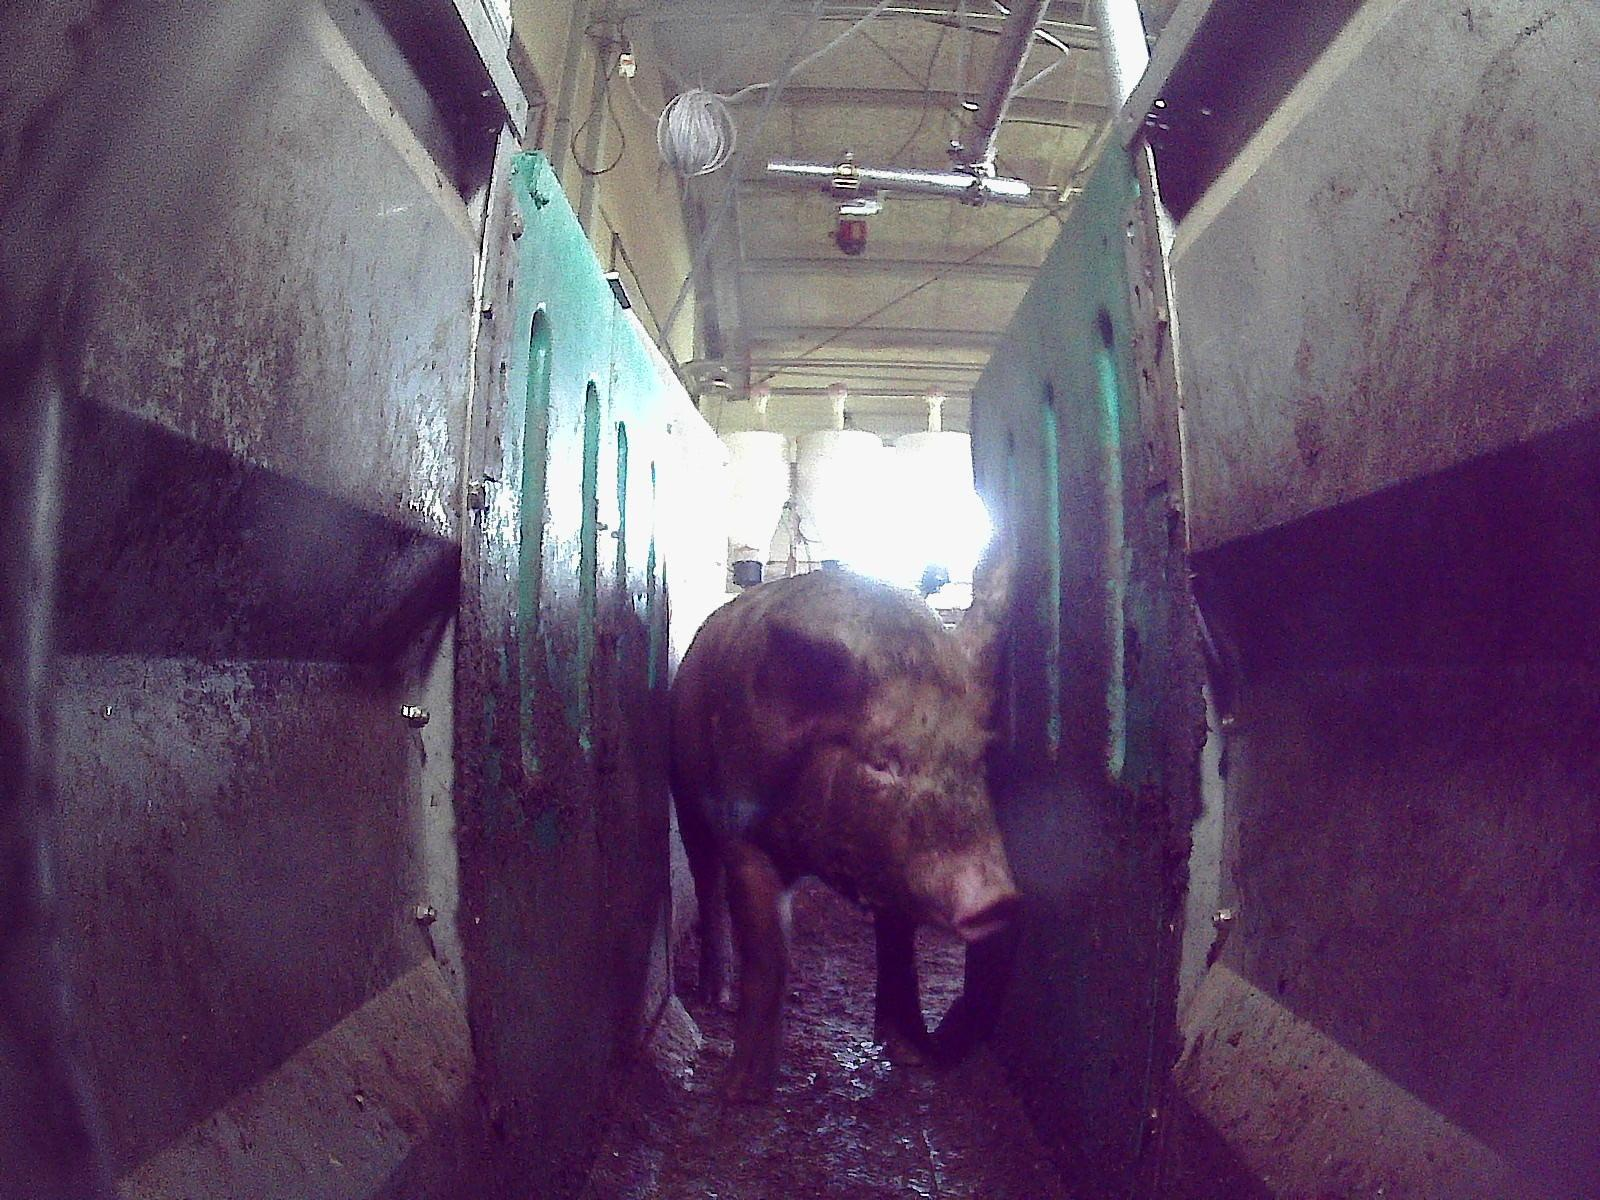Face: (804, 657, 1022, 940)
